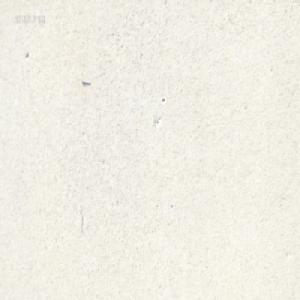Nail: (81, 78, 91, 84)
